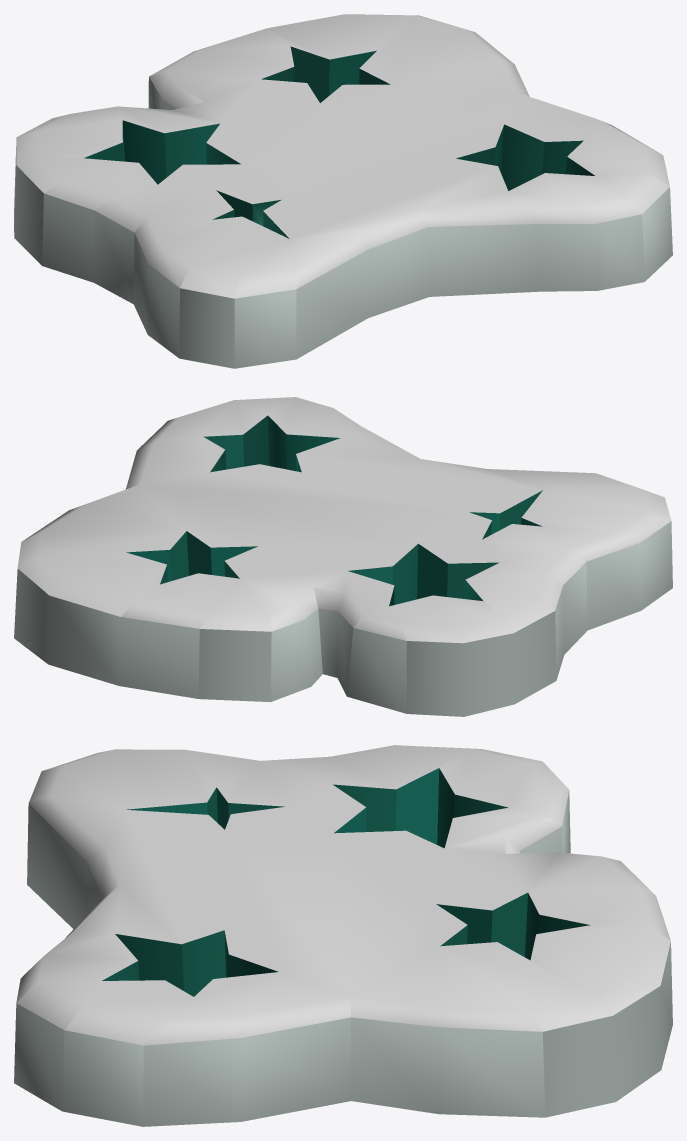
File: ConstallationPlate.glb
3 renders of one model, top to bottom at view 1: azimuth 30°, elevation 25°; view 2: azimuth 150°, elevation 25°; view 3: azimuth 270°, elevation 25°, orthographic. The views are drawn at different scales.
Visible parts, largest first — view 1: ConstallationPlate; view 2: ConstallationPlate; view 3: ConstallationPlate.
Boxes of the visible parts, box(x1,y1,x2,y2) form: ConstallationPlate: box(14, 14, 672, 368); ConstallationPlate: box(14, 397, 672, 716); ConstallationPlate: box(14, 745, 672, 1126).
Size of the model in its own units: 0.6055 by 0.0951 by 0.5739.
